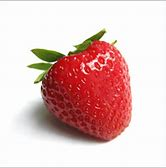Fresa: (42, 39, 133, 142)
